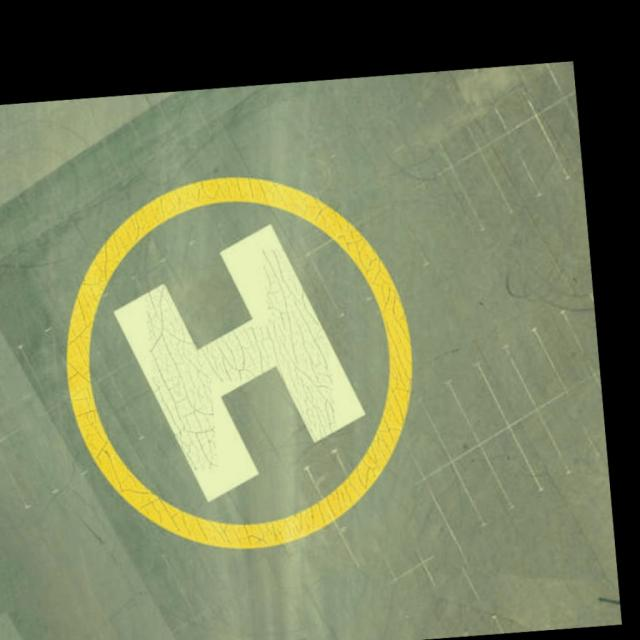helipad: (63, 172, 417, 554)
